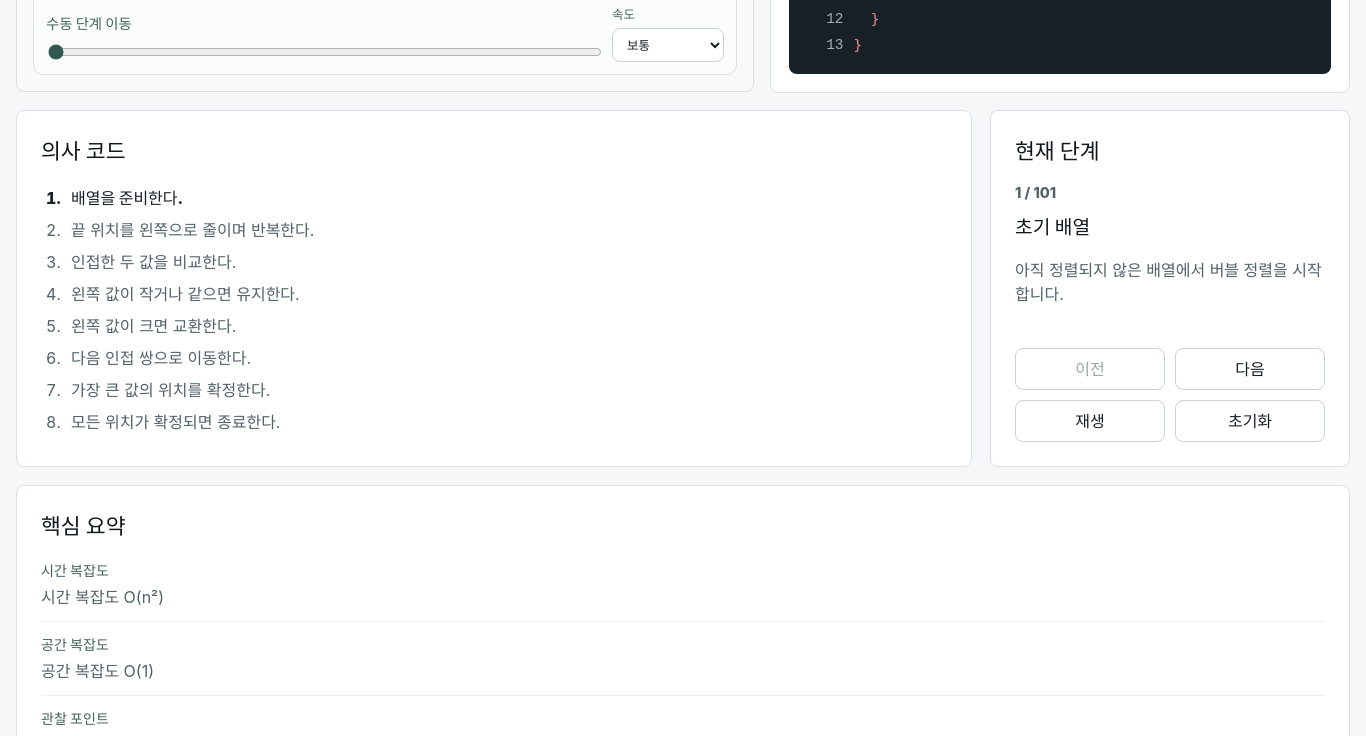
SortingPage › moves through trace steps with the next and reset controls
(page scrolled)
What coordinates should you click on to do the following:
click the button "다음" below "아직 정렬되지 않은 배열에서 버블 정렬을 시작합니다."
I would click on:
 (1250, 369)
Its box is [1175, 348, 1325, 390].
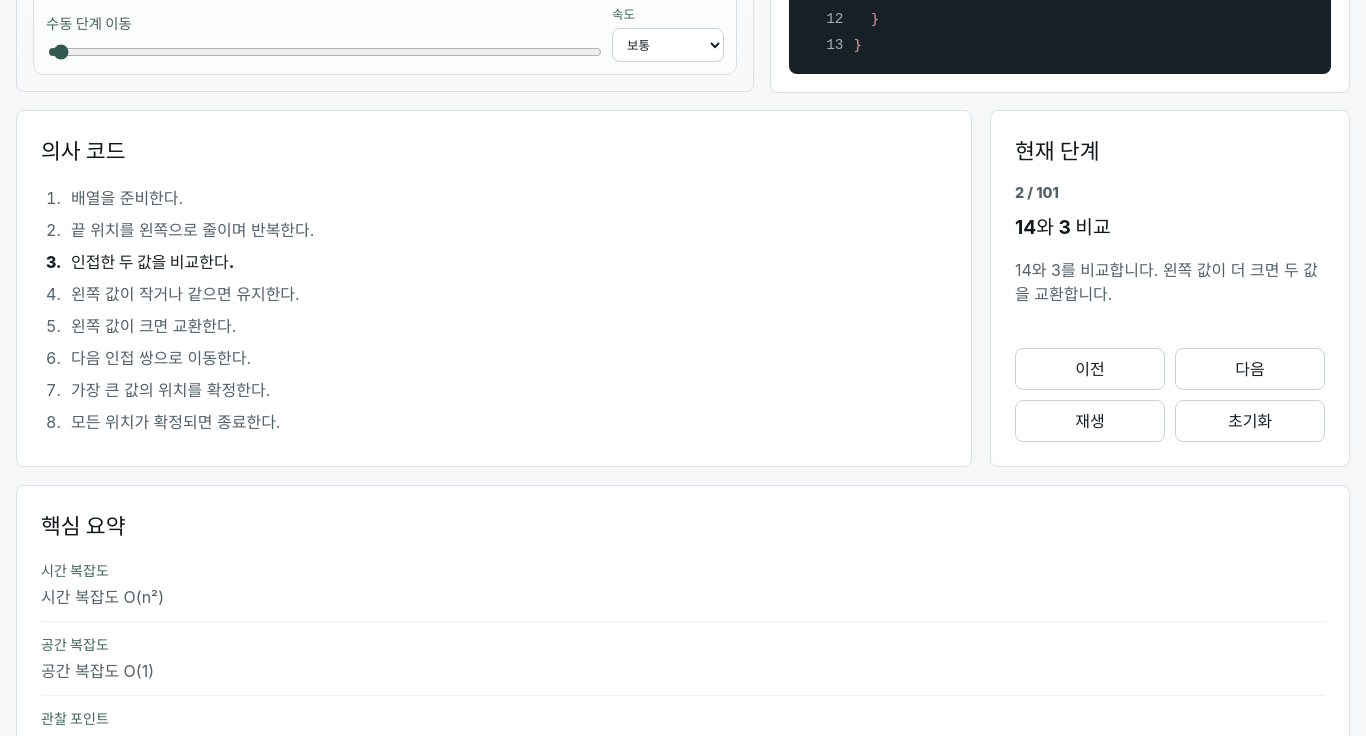
Check: the heading "14와 3 비교" is shown, box [1015, 216, 1111, 240]
Check: the button "이전" is enabled, box [1015, 348, 1165, 390]
What coordinates should you click on to do the following:
click the button "초기화"
I would click on:
 (1250, 421)
Its box is [1175, 400, 1325, 442].
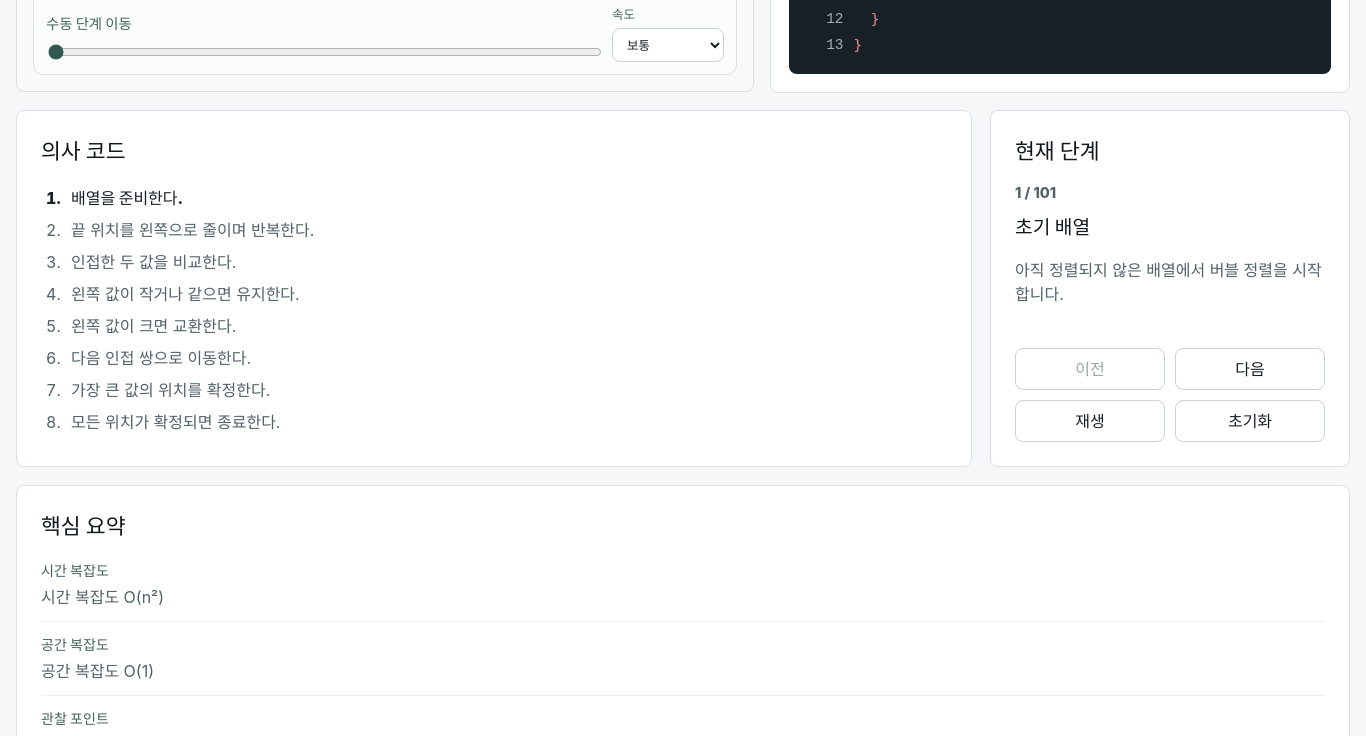
Check: the heading "초기 배열" is shown, box [1015, 216, 1090, 240]
Check: the button "이전" is disabled, box [1015, 348, 1165, 390]
